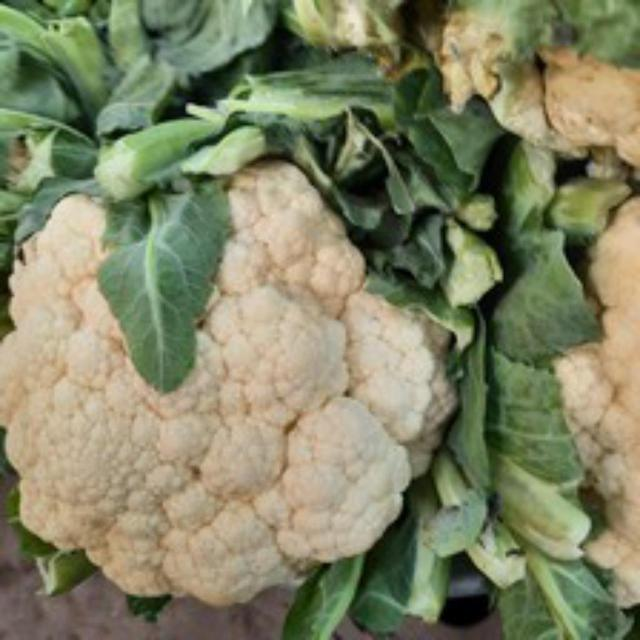cauliflower: (3, 148, 456, 616)
